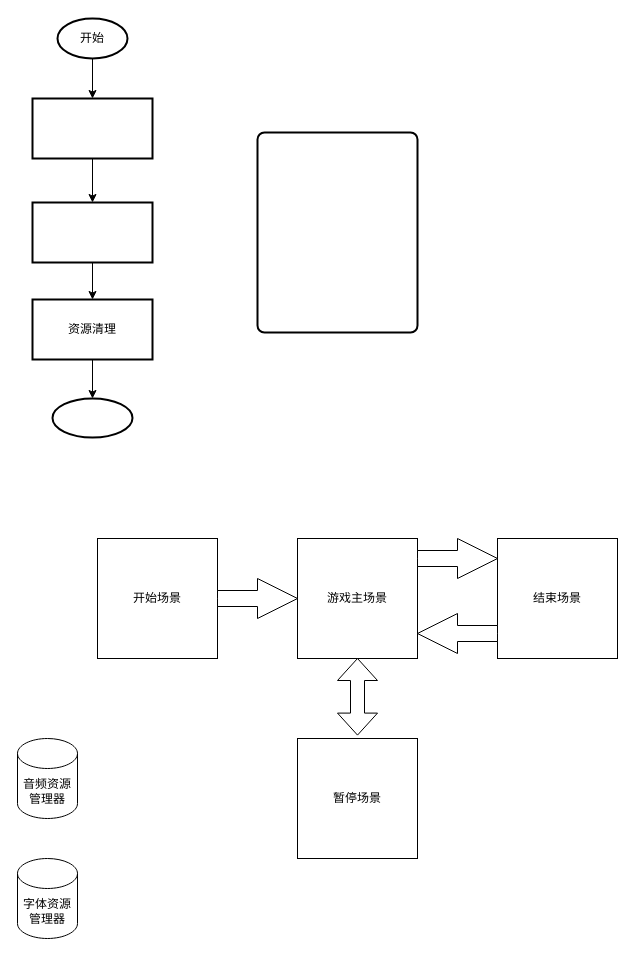
Some shapes in this 635 by 956 pixel diagram are drawn without their labels. The shapes that lost their labels are listed below. From the top down, each one's box as (x1, y1, x2, y2) in pixels, then its label:
(31, 97, 153, 159): 系统资源初始化
(31, 201, 153, 263): 游戏程序
(256, 131, 418, 333): handleEvent() 事件处理 update() 更新元素 render() 渲染元素
(51, 397, 133, 438): 结束
